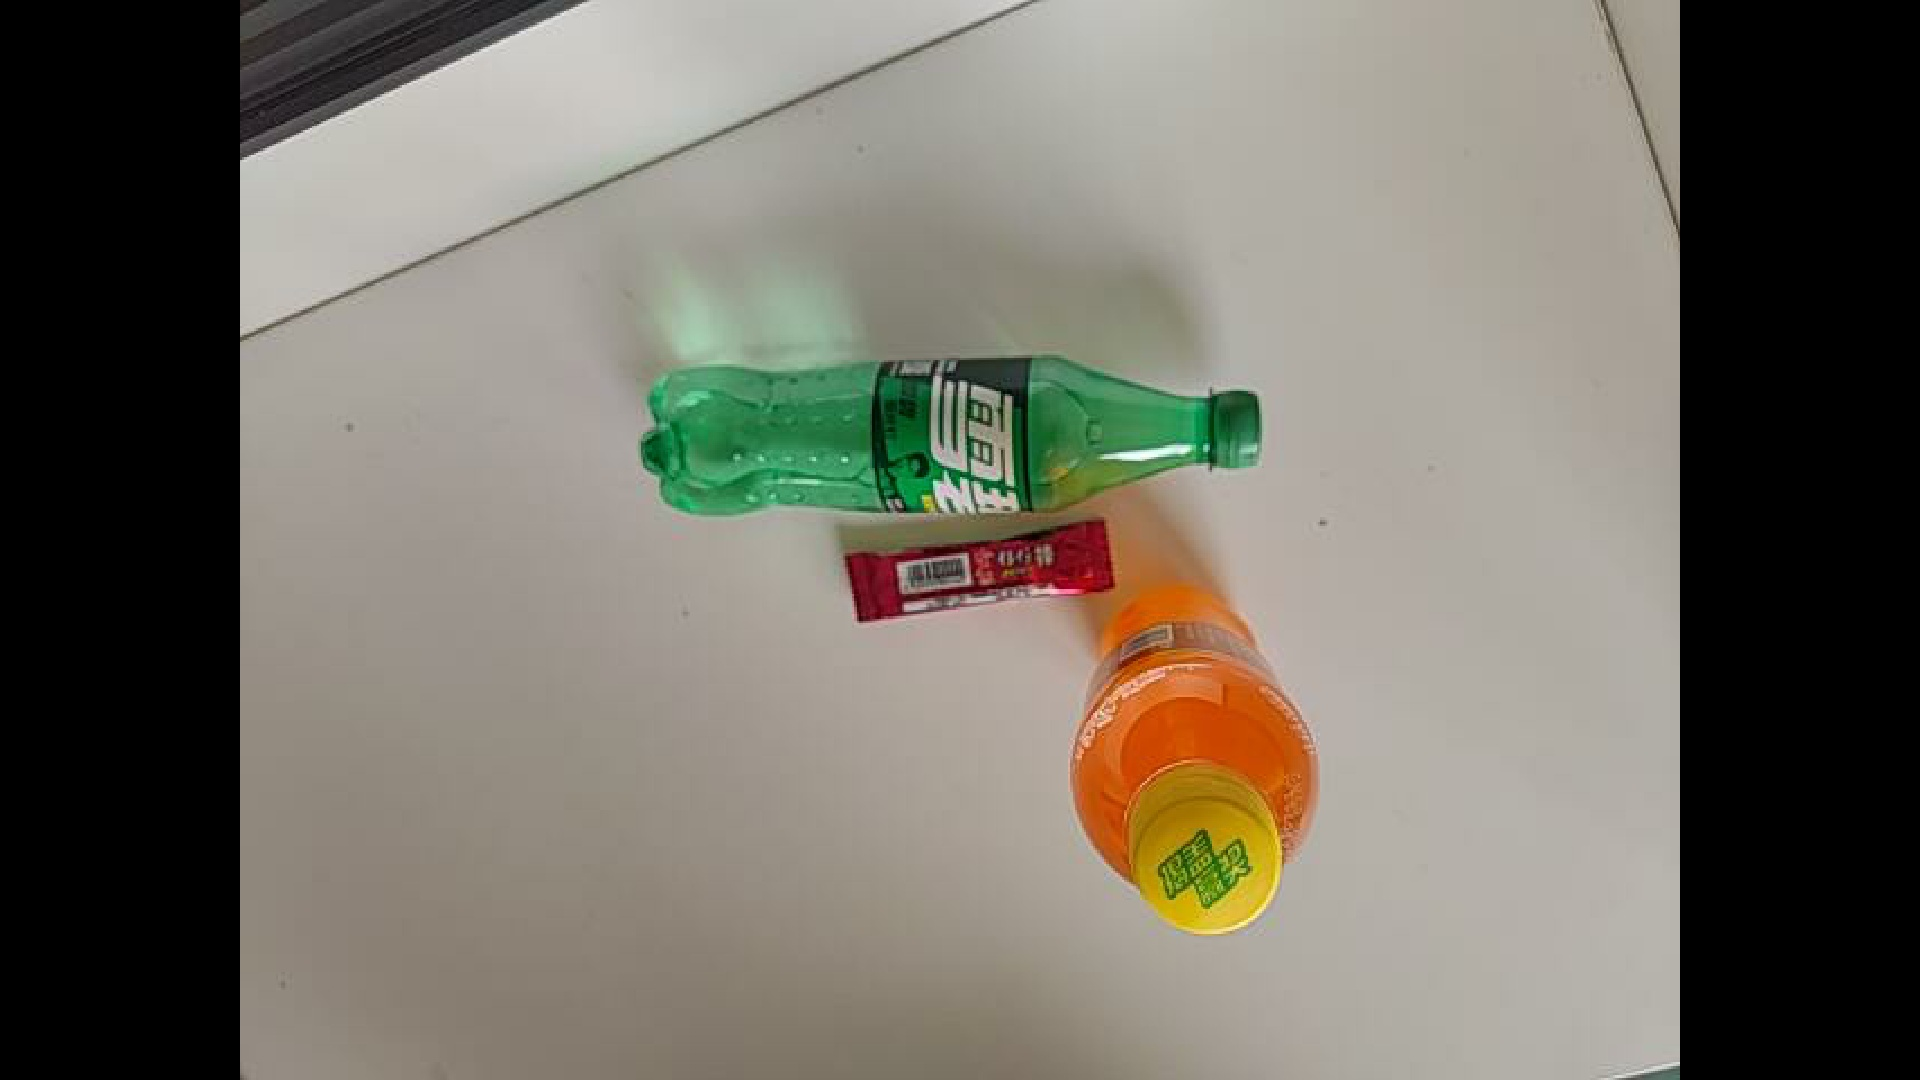fenta: (1067, 583, 1323, 938)
sprite: (638, 353, 1265, 518)
sugar: (841, 529, 1124, 626)
